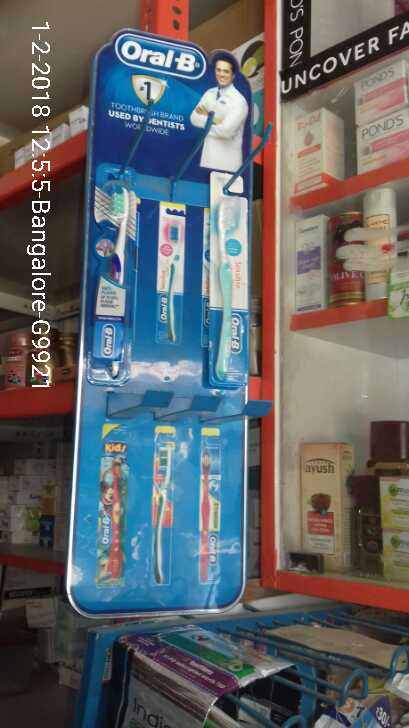oralb: (95, 163, 131, 384), (208, 172, 246, 380)
